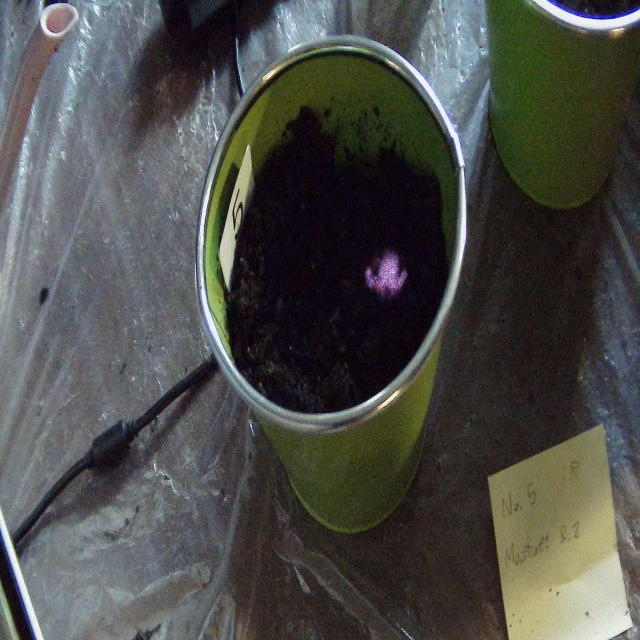soil-moisture-8.2: (366, 247, 408, 295)
